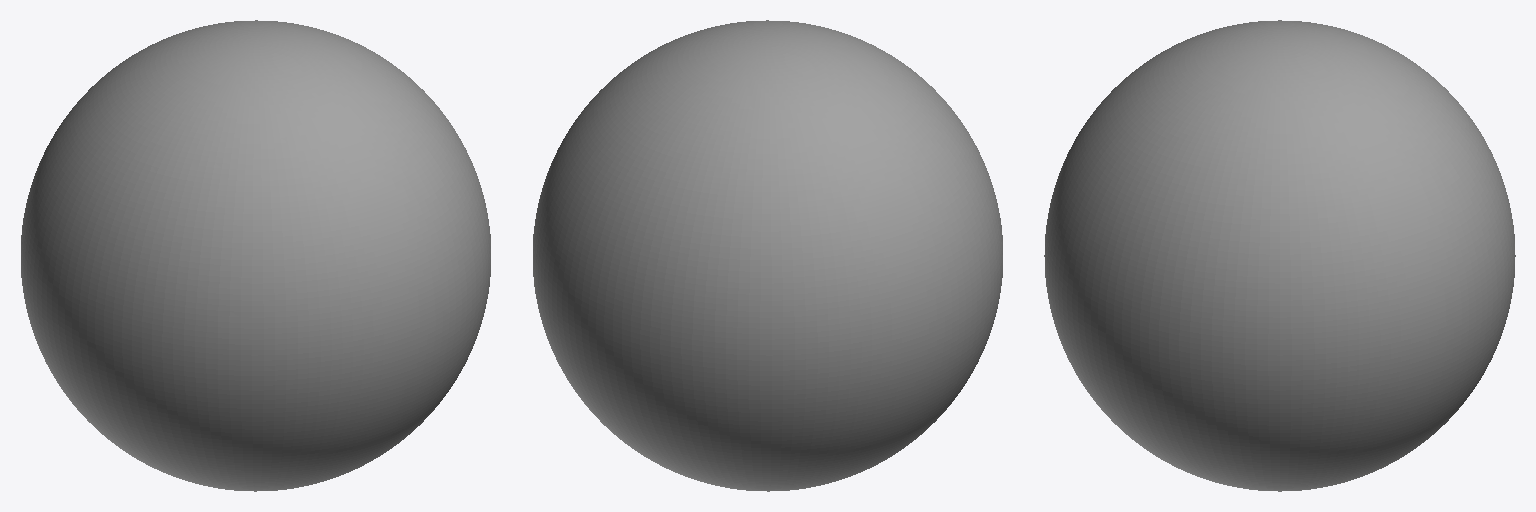
File: saturno.obj
The picture shows the model from 3 angles: view 1: azimuth 30°, elevation 25°; view 2: azimuth 150°, elevation 25°; view 3: azimuth 270°, elevation 25°; orthographic projection.
Parts seen in each view (by area): view 1: Moon_Sphere.006; view 2: Moon_Sphere.006; view 3: Moon_Sphere.006.
Boxes of the visible parts, box(x1,y1,x2,y2) form: Moon_Sphere.006: box(21, 20, 490, 491); Moon_Sphere.006: box(533, 20, 1002, 491); Moon_Sphere.006: box(1044, 20, 1515, 491).
Size of the model in its own units: 8.52 by 8.52 by 8.52.